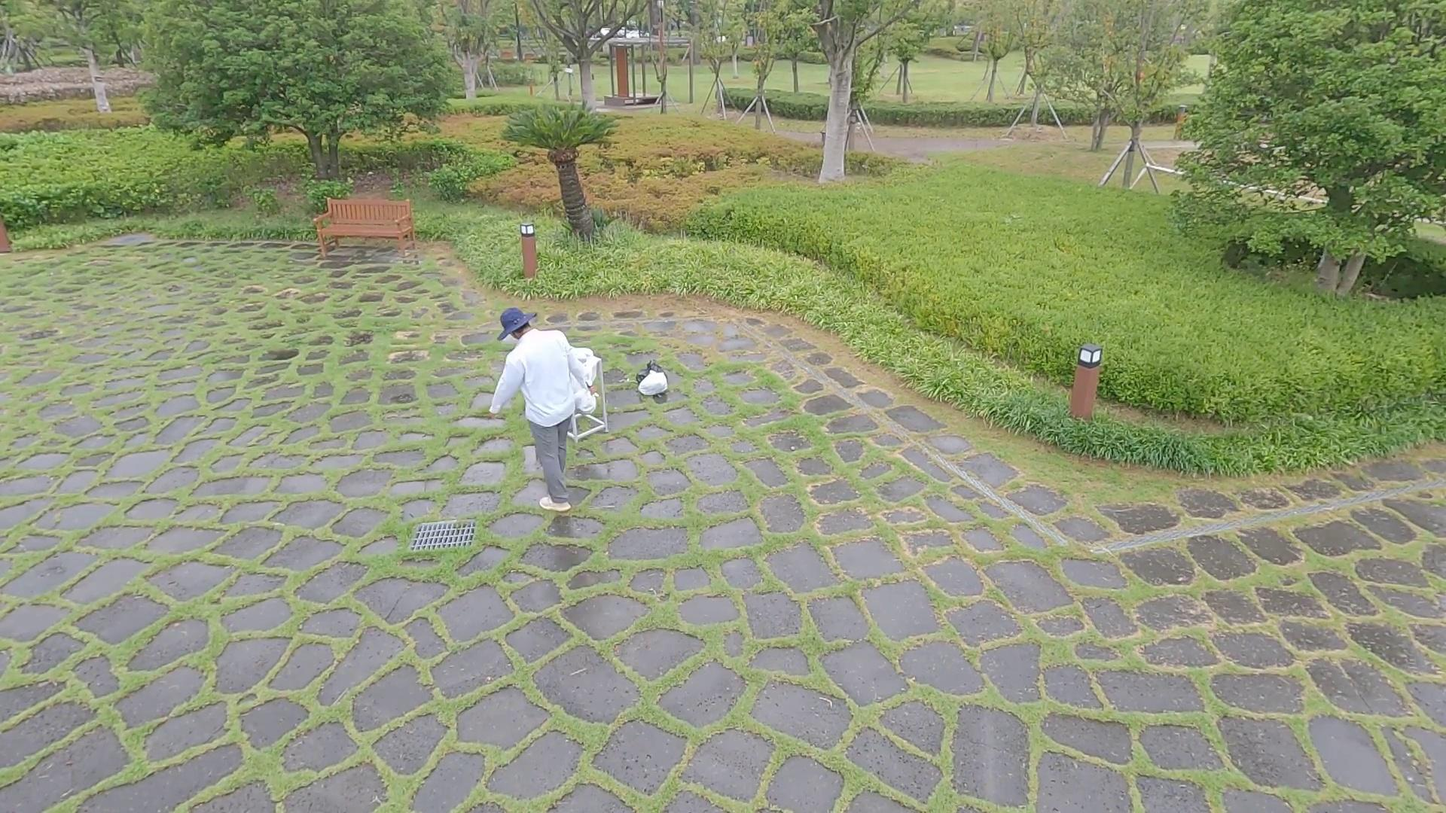person: (489, 305, 597, 512)
trash: (634, 372, 669, 397), (638, 360, 667, 388), (573, 386, 599, 415)
